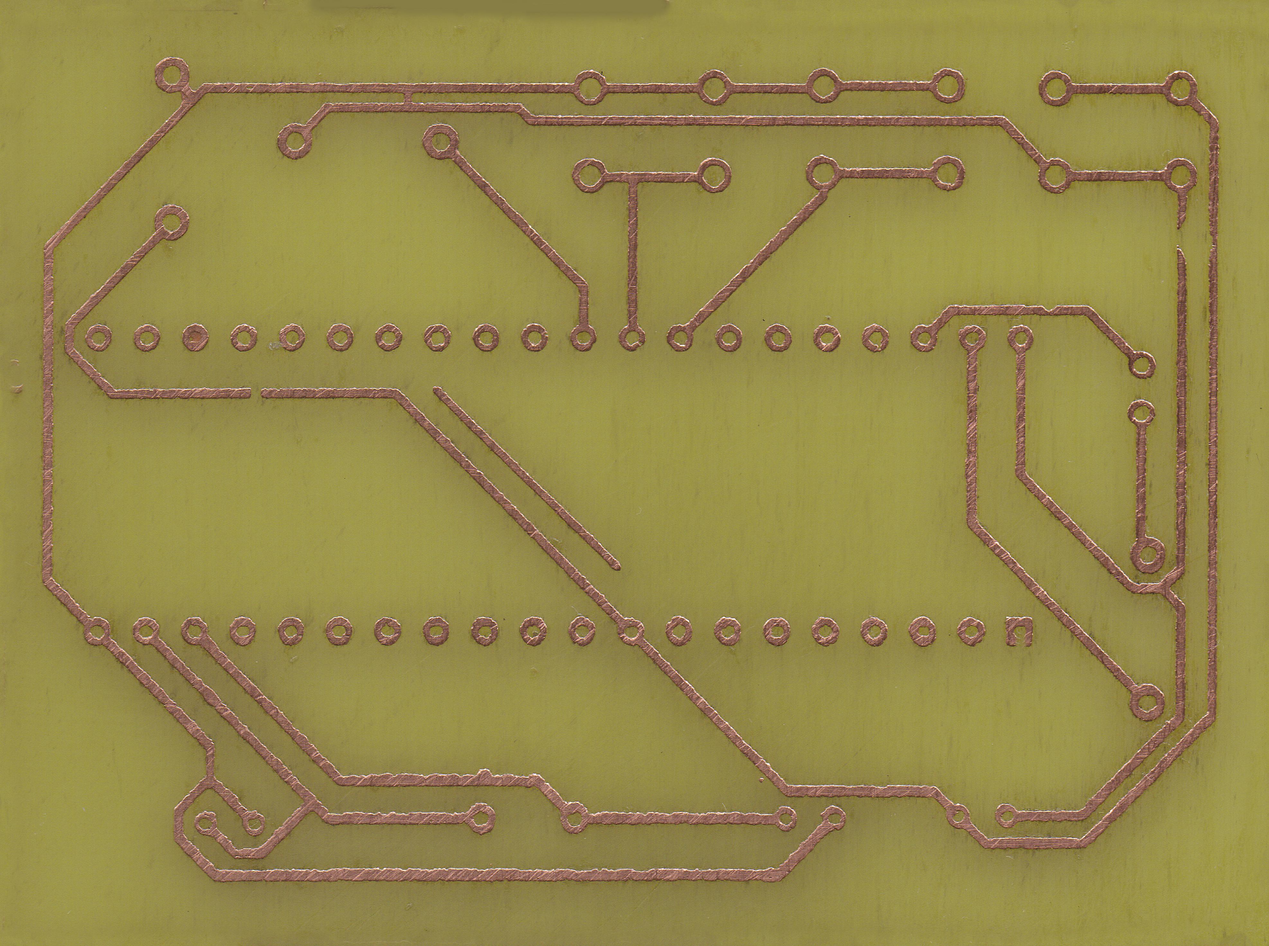missing_hole: (1005, 616, 1033, 647)
mouse_bite: (1039, 305, 1061, 315)
open_circuit: (1177, 218, 1186, 262), (241, 387, 272, 399)
short: (396, 84, 418, 111)
spur: (473, 767, 496, 786)
spurious_copper: (432, 385, 623, 571)
